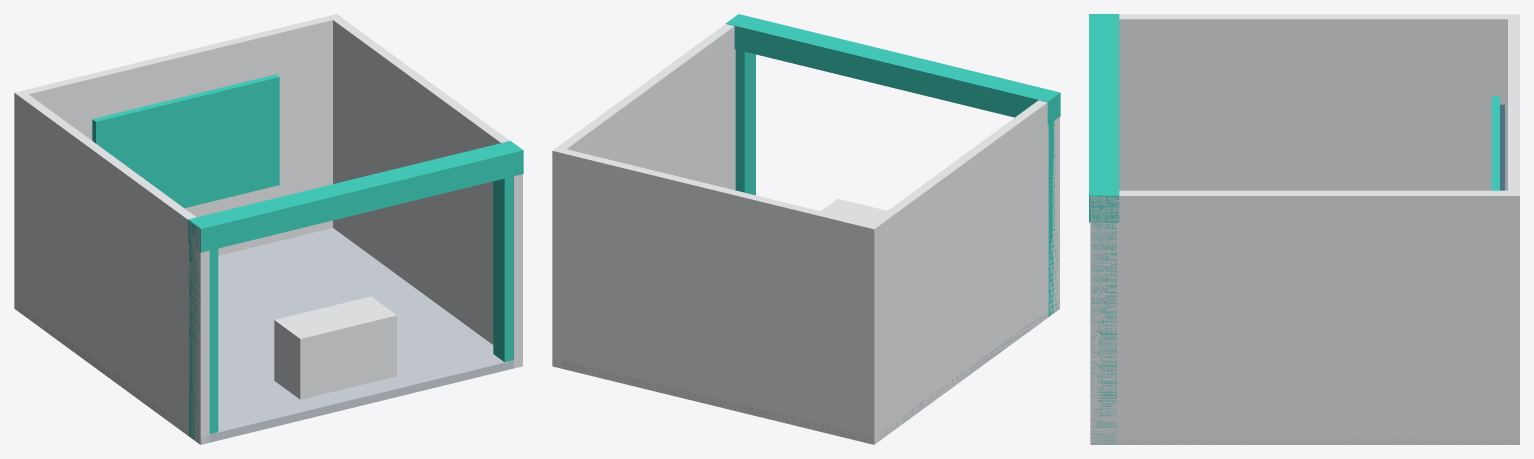
3 views of the same model, side by side, from view 1: azimuth 30°, elevation 25°; view 2: azimuth 150°, elevation 25°; view 3: azimuth 270°, elevation 25° (orthographic). The views are drawn at different scales.
Parts seen in each view (by area): view 1: Exhibition Booth Concept; view 2: Exhibition Booth Concept; view 3: Exhibition Booth Concept.
Part boxes in pixels (x1,y1,x2,y2): Exhibition Booth Concept: [14, 14, 523, 444]; Exhibition Booth Concept: [552, 14, 1060, 444]; Exhibition Booth Concept: [1089, 14, 1519, 444].
Bounding box in the file's own units: 5 × 3.2 × 5.02.
